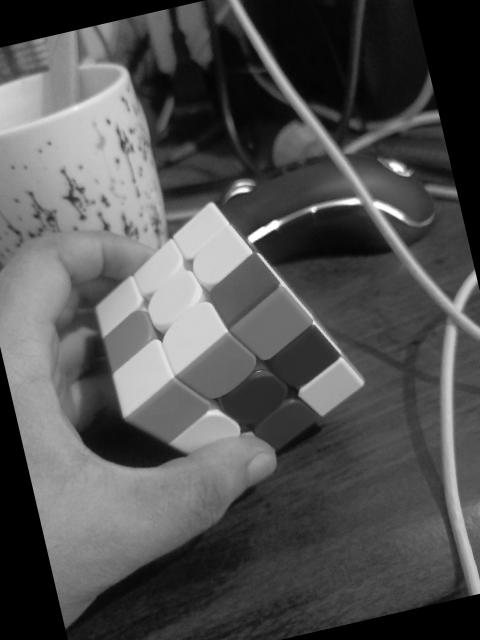rubik: (74, 175, 376, 484)
